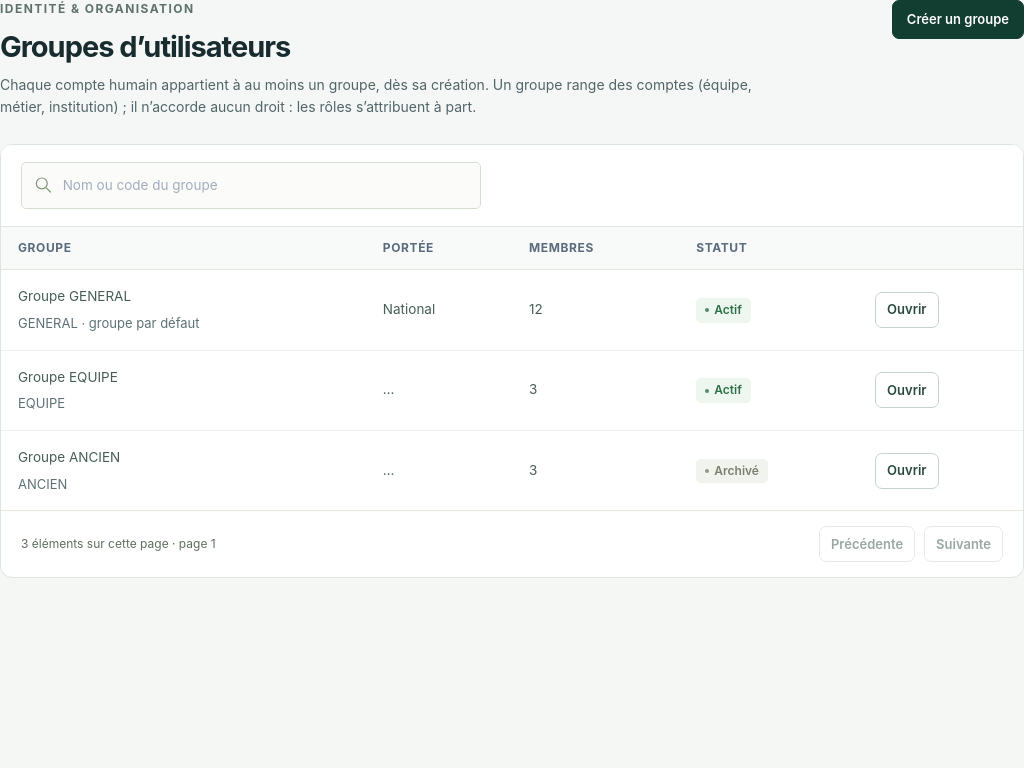
Test case: ouvrir un groupe montre ses membres par leur nom et leur adresse
The image size is (1024, 768).
Click the button "Ouvrir" in the row of "Groupe EQUIPE": (907, 390) top-left (875, 372), bottom-right (938, 408)
(page scrolled)
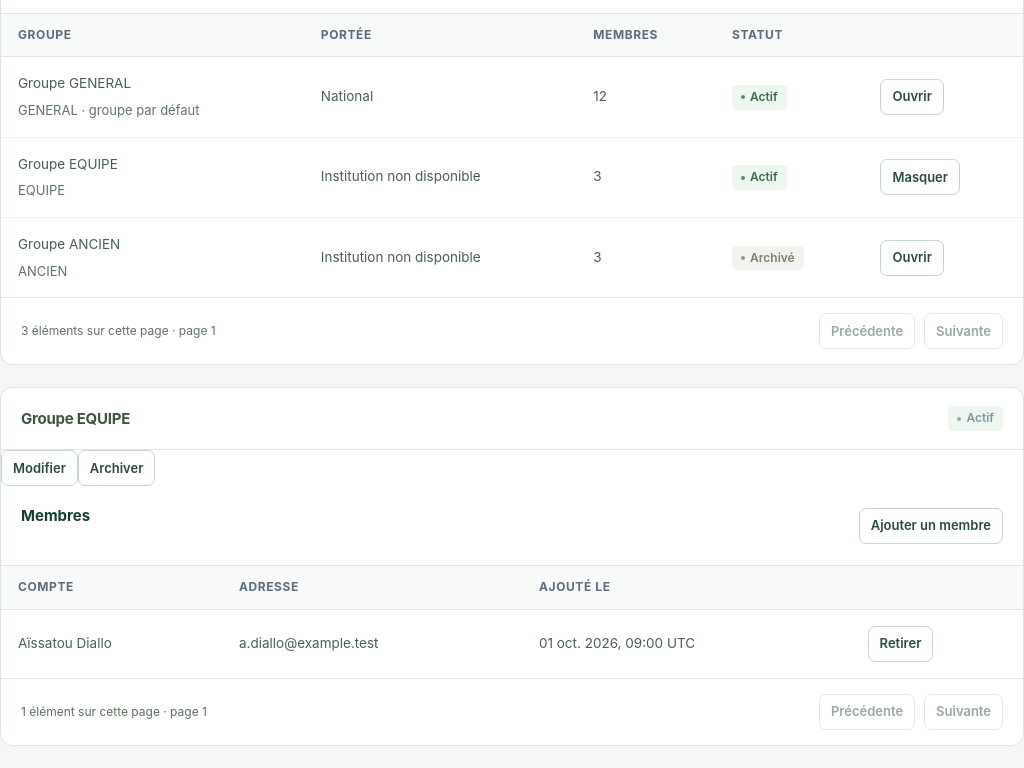
Expected: the text "Aïssatou Diallo" is shown, top-left (1, 609), bottom-right (222, 678)
Expected: the text "a.diallo@example.test" is shown, top-left (222, 609), bottom-right (522, 678)
